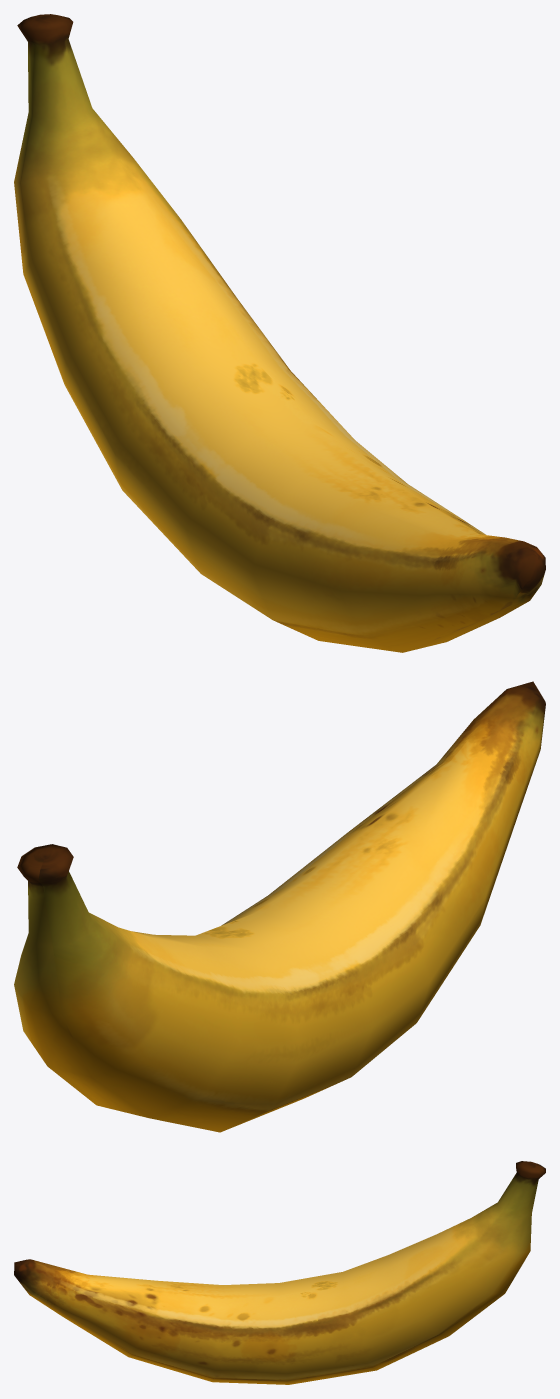
The model's file is Plantain_Yellow.fbx.
The picture shows the model from 3 angles, top to bottom: view 1: azimuth 30°, elevation 25°; view 2: azimuth 150°, elevation 25°; view 3: azimuth 270°, elevation 25°; orthographic projection. The views are drawn at different scales.
Visible parts, largest first — view 1: Plantain_Yellow; view 2: Plantain_Yellow; view 3: Plantain_Yellow.
Part boxes in pixels (<box>): Plantain_Yellow: <box>14,14,545,652</box>; Plantain_Yellow: <box>14,681,545,1132</box>; Plantain_Yellow: <box>14,1161,545,1384</box>.
Bounding box in the file's own units: 24.31 × 50.92 × 115.
